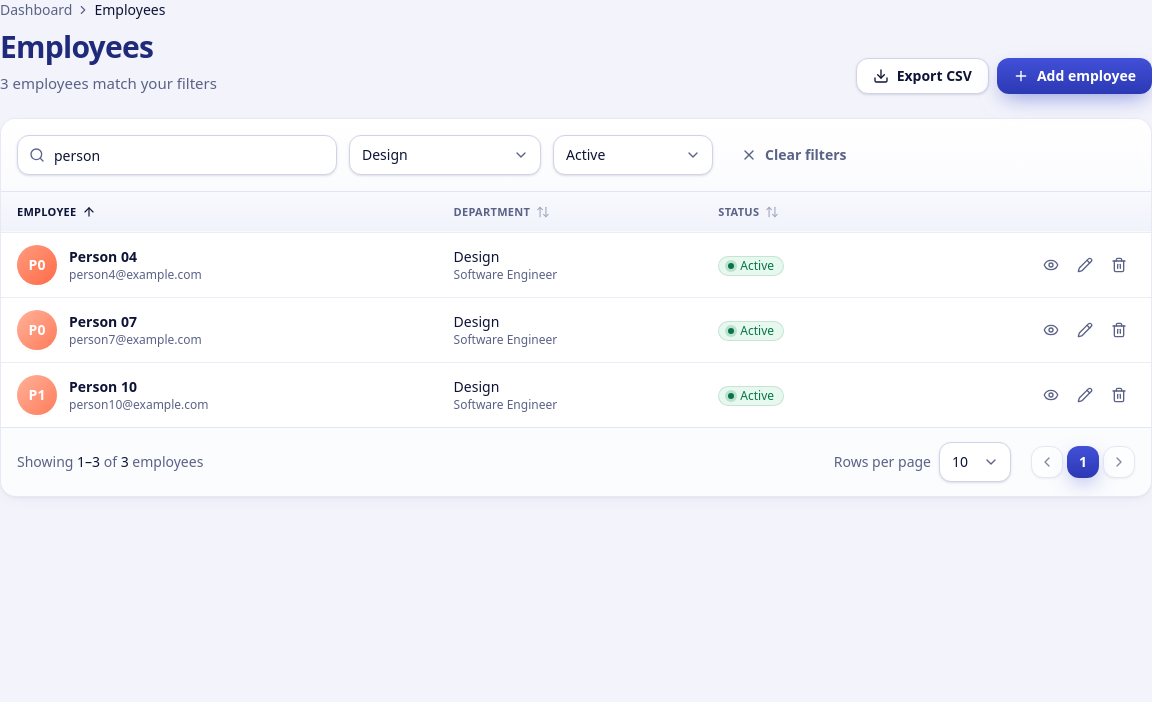
it: <EmployeeDirectory> › clears every filter at once
Expected: the search field named "Search employees" holds "person", [17,135,337,175]
Click the button "Clear filters" at {"x": 794, "y": 155}, box [725,137,862,173]
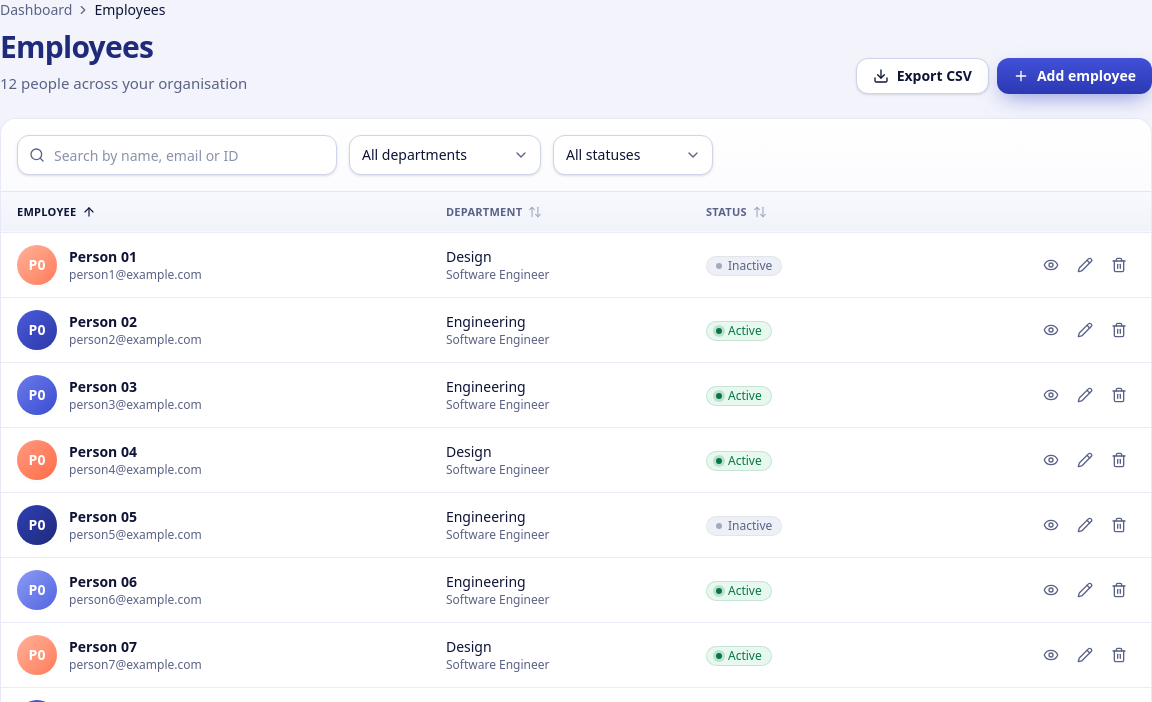
Now the text "12 people across your organisation" is shown, box [0,72,247,94]
Now the search field named "Search employees" is empty, box [17,135,337,175]
Now the dropdown named "Filter by department" shows "All departments", box [349,135,541,175]
